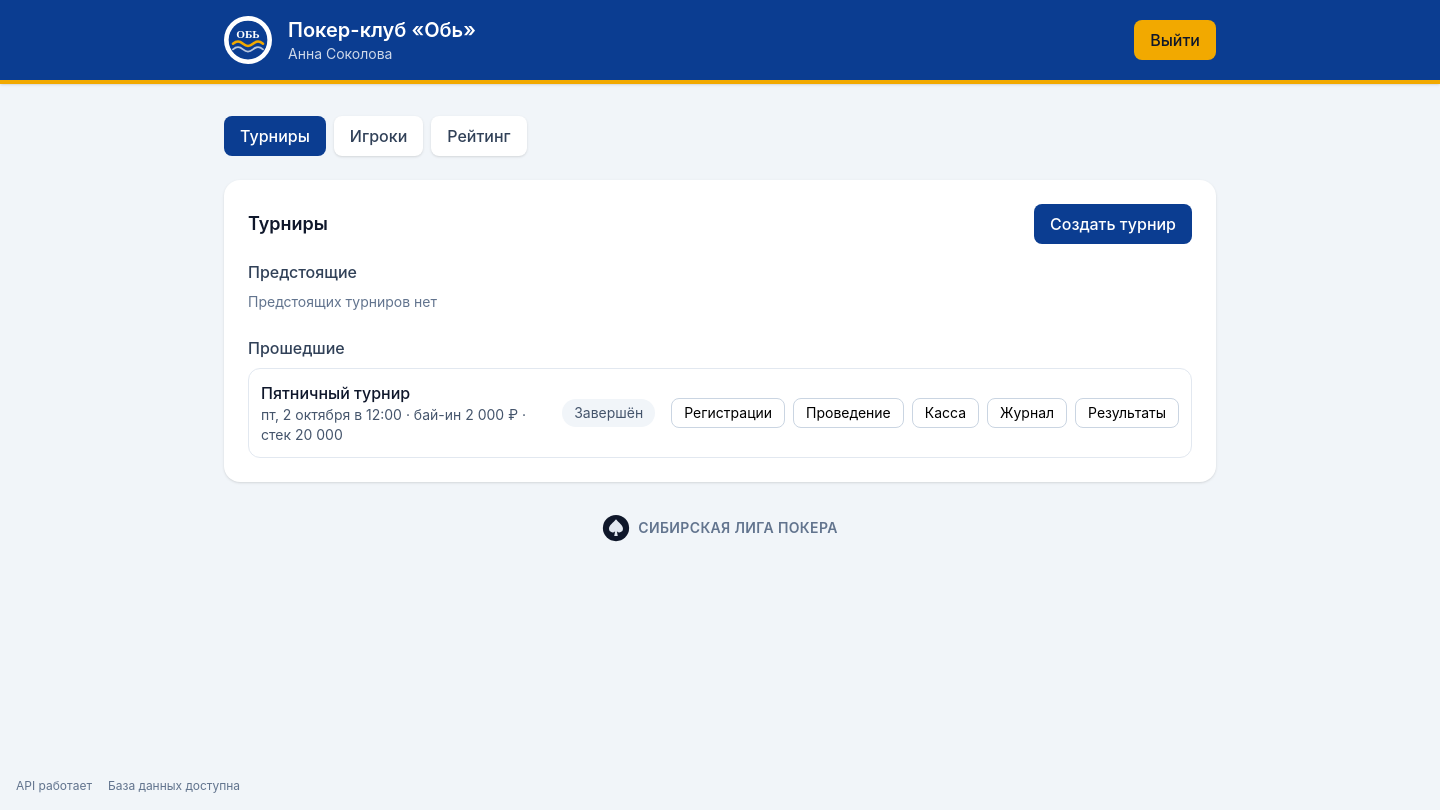
it: tournament results › shows every player's place and points
The image size is (1440, 810).
Click the button "Результаты". click: (1127, 413)
box: [1075,398,1179,428]
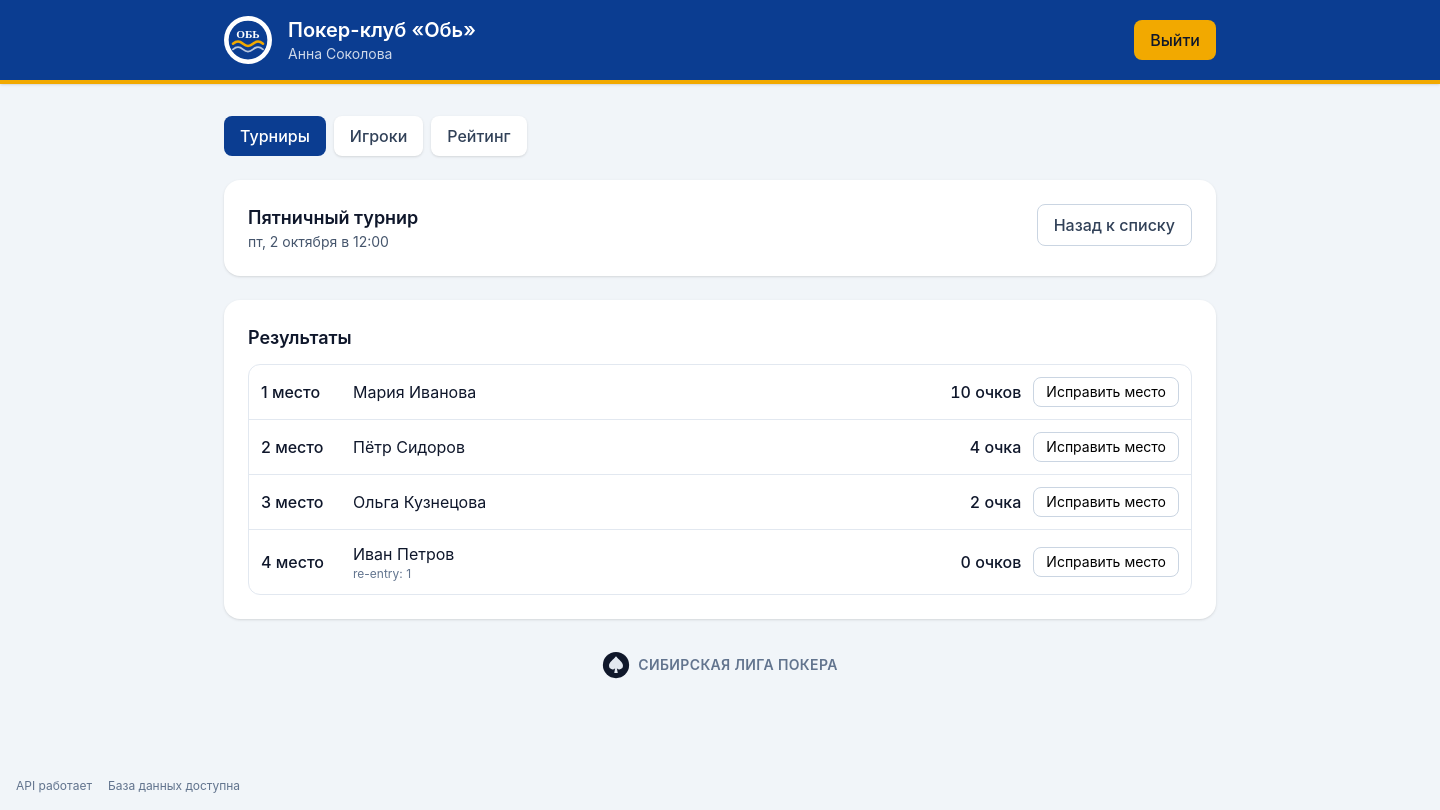
Expected: the heading "Пятничный турнир" is shown, [248,204,418,232]
Expected: the list item "Мария Иванова" shows "1 место", [249,365,1191,420]
Expected: the list item "Мария Иванова" shows "10 очков", [950,382,1021,402]
